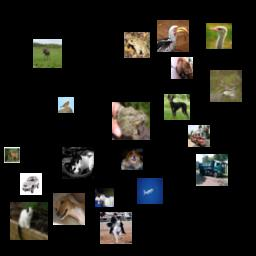airplane: (137, 178, 163, 204)
automobile: (20, 173, 42, 195)
bird: (157, 20, 189, 52), (206, 23, 232, 49), (58, 97, 74, 113)
cat: (10, 202, 48, 240), (62, 147, 94, 179), (171, 57, 193, 79), (95, 188, 114, 207)
deer: (210, 70, 242, 102), (33, 39, 62, 68), (4, 147, 20, 163)
dog: (53, 193, 85, 225), (164, 94, 190, 120), (121, 148, 143, 170)
frog: (112, 102, 150, 140), (124, 32, 150, 58)
truck: (196, 154, 228, 186), (188, 125, 210, 147)
